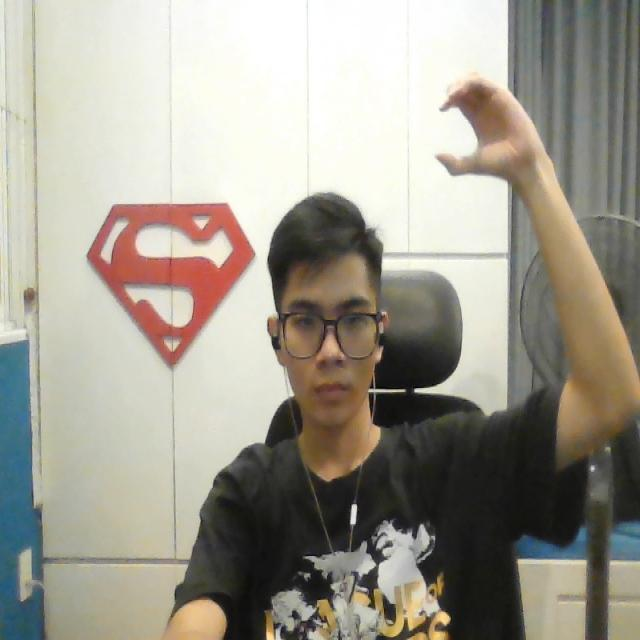C: (427, 76, 514, 176)
